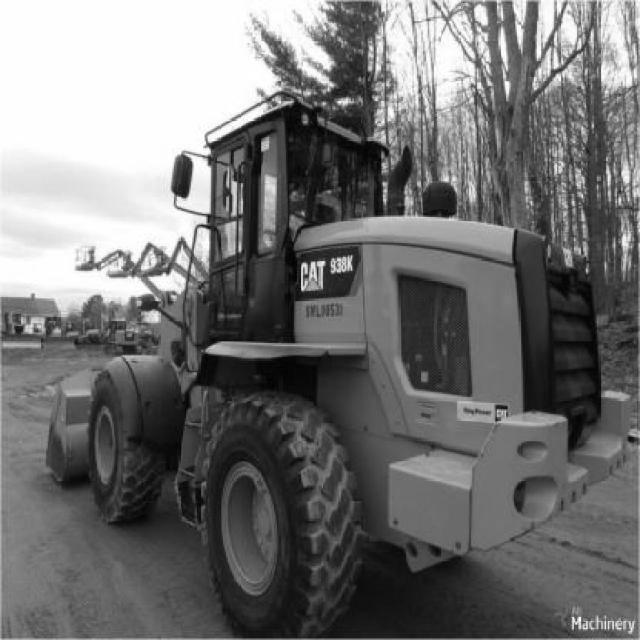Construction Equipment: (46, 91, 632, 638)
